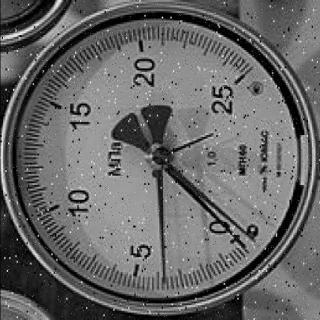gauge: (0, 0, 320, 320), (226, 225, 268, 257), (222, 57, 258, 92), (144, 140, 175, 169), (204, 125, 218, 143), (246, 231, 257, 247), (157, 272, 168, 288), (240, 241, 250, 257)
